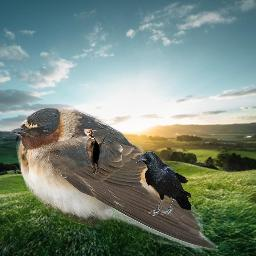Crow: (135, 151, 191, 216)
Swallow: (10, 107, 218, 250)
Woodpecker: (84, 129, 105, 176)
